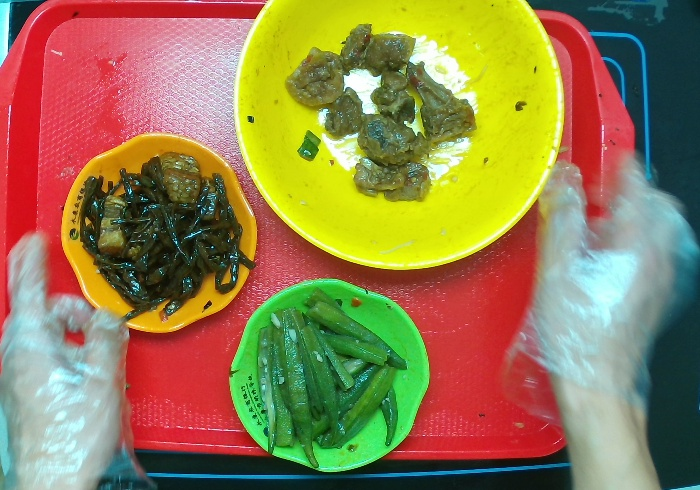YKMZ-Huang_Se_Tang_Wan: (233, 1, 561, 275)
YKMZ-Ju_Se_Ao_Bian_Wan: (58, 126, 263, 333)
YKMZ-Lv_Se_Ao_Bian_Wan: (225, 276, 431, 476)
